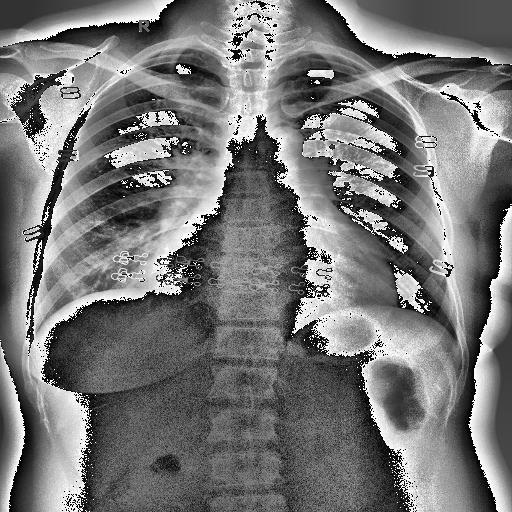3- Cardiomegaly: (153, 208, 399, 309), (144, 235, 399, 307), (152, 234, 398, 304)
